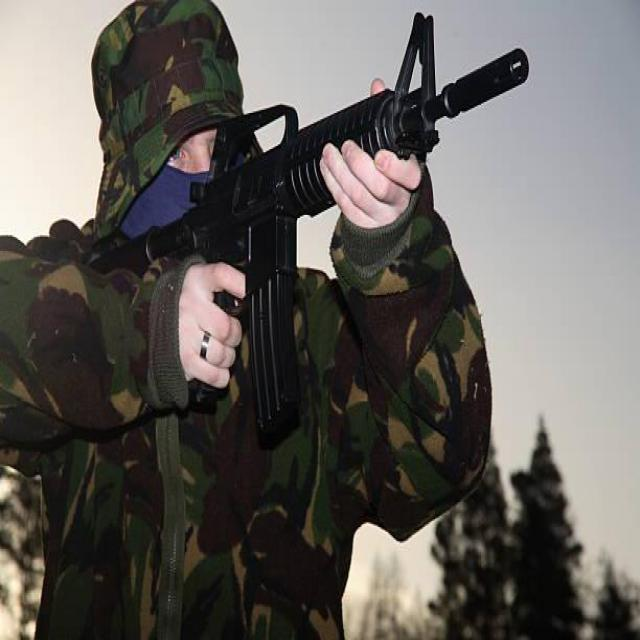weapon: (88, 12, 530, 448)
